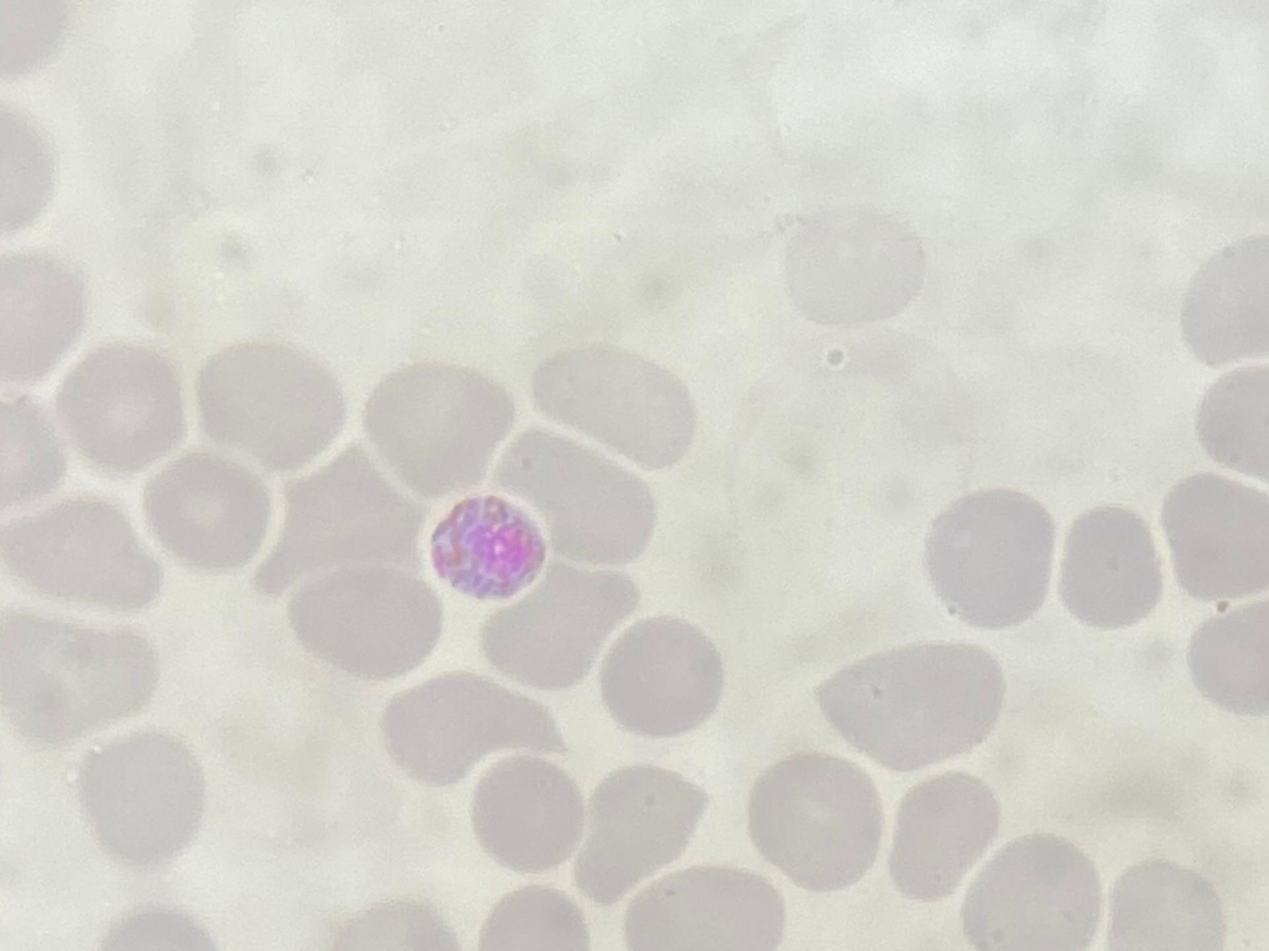Infected: (427, 494, 548, 599)
Uninfected: (809, 640, 1006, 771), (260, 450, 419, 600), (527, 347, 696, 477), (496, 428, 652, 567), (48, 340, 198, 484), (383, 675, 564, 790), (0, 611, 156, 739), (478, 571, 636, 697), (366, 362, 513, 496), (917, 488, 1052, 633), (198, 336, 342, 470), (745, 754, 877, 893), (75, 737, 214, 866), (577, 767, 704, 905), (965, 829, 1102, 951), (0, 490, 157, 596), (145, 444, 273, 572), (289, 565, 436, 675), (1154, 472, 1269, 603), (890, 770, 994, 903), (599, 620, 715, 739), (628, 864, 784, 951), (1058, 507, 1166, 627), (474, 750, 580, 871), (1113, 851, 1226, 951)
